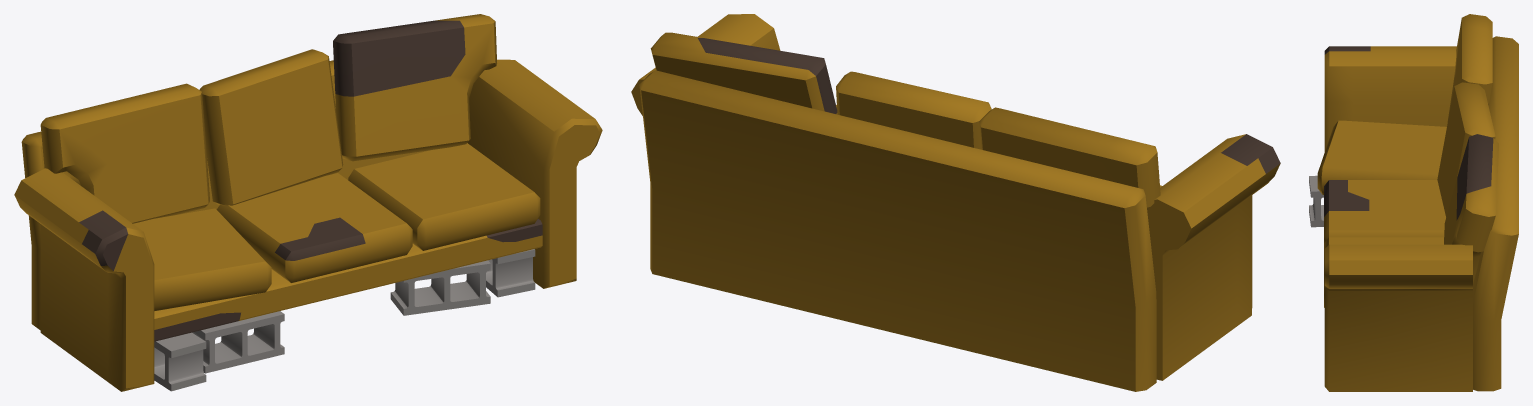
File: couch.glb
3 views of the same model, side by side, from view 1: azimuth 30°, elevation 25°; view 2: azimuth 150°, elevation 25°; view 3: azimuth 270°, elevation 25° (orthographic). The views are drawn at different scales.
Visible parts, largest first — view 1: Couch; view 2: Couch; view 3: Couch.
Boxes of the visible parts, x1,y1,x2,y2 form: Couch: [14, 14, 602, 391]; Couch: [631, 14, 1280, 391]; Couch: [1309, 14, 1518, 391].
Bounding box in the file's own units: 3.01 × 1.24 × 1.21.
1 material, 1 textured.
